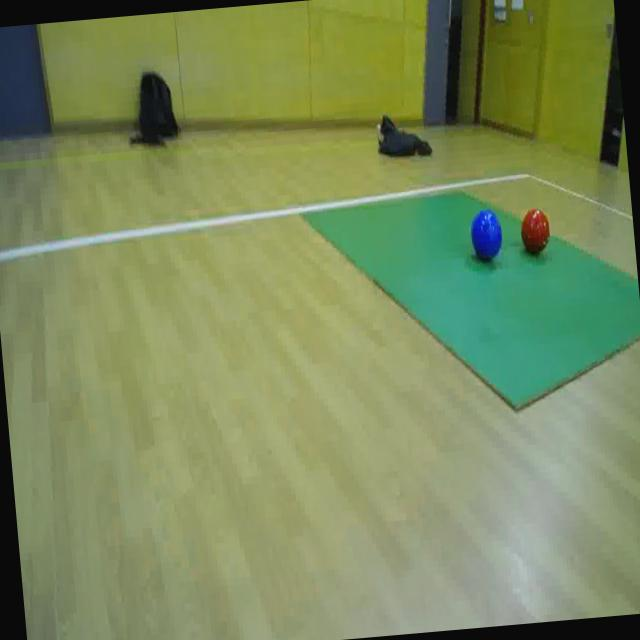blue_ball: (466, 202, 506, 266)
red_ball: (514, 201, 556, 260)
